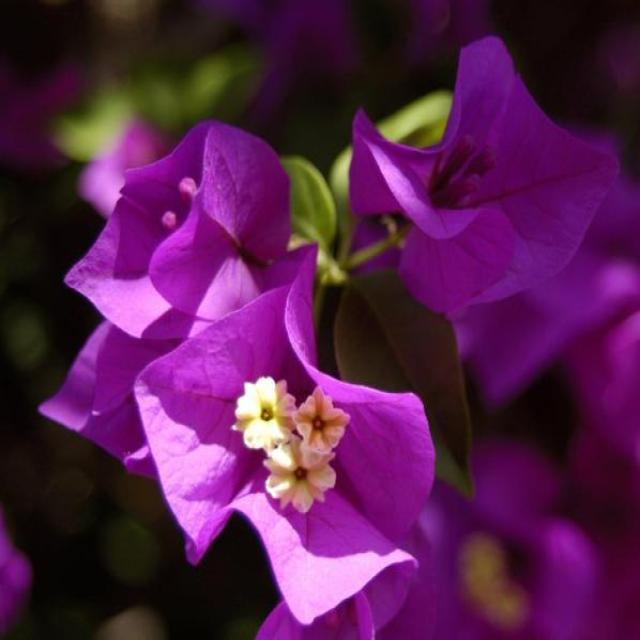bougainvillea: (14, 17, 580, 640)
